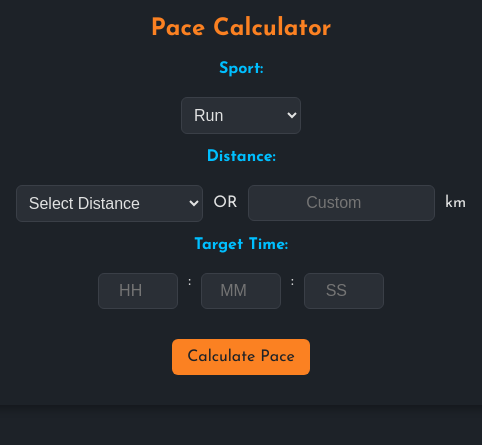
it: Pace Calculator › shows 'Invalid input' when input is missing
This screenshot has width=482, height=445.
Click the button "Calculate Pace" at (241, 357), box [172, 339, 310, 375]
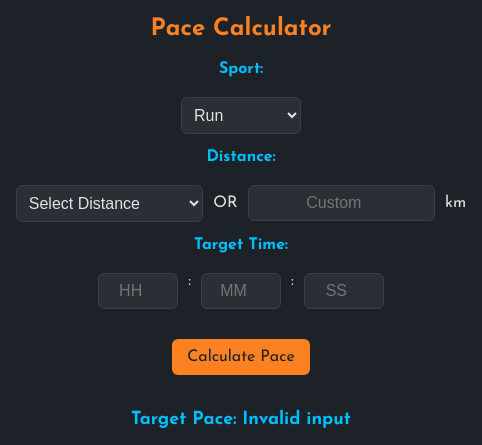
Expected: the heading "Target Pace: Invalid input" is shown, [131, 410, 351, 429]
